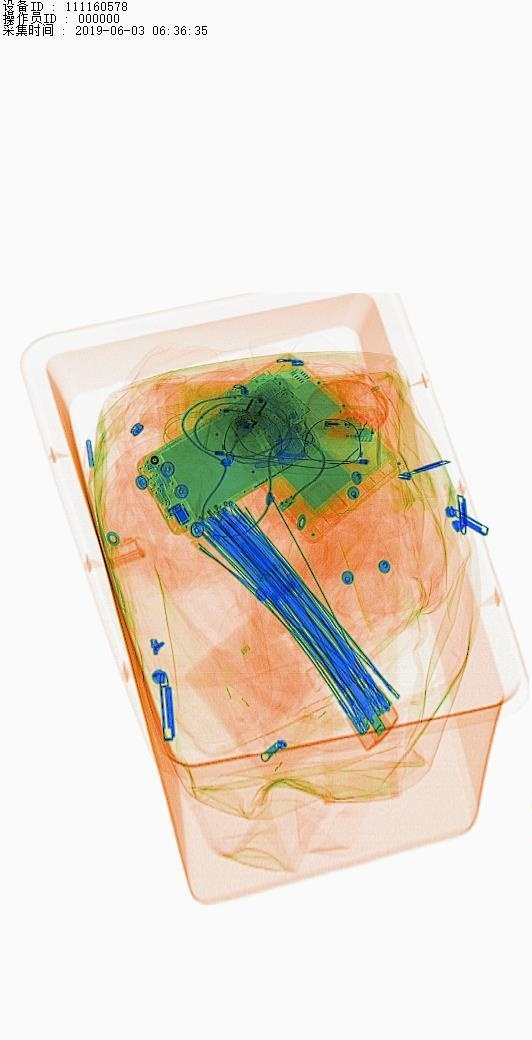NonmetallicFire: (310, 405, 411, 450)
